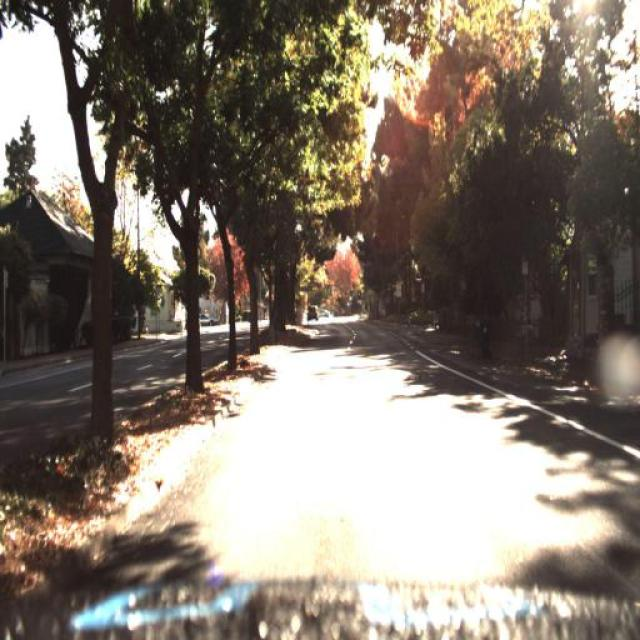car: (193, 306, 221, 330), (196, 310, 220, 332), (303, 298, 317, 323)
trafficLight-RedLeft: (354, 284, 364, 305)
